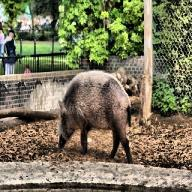boar: (57, 69, 133, 163)
